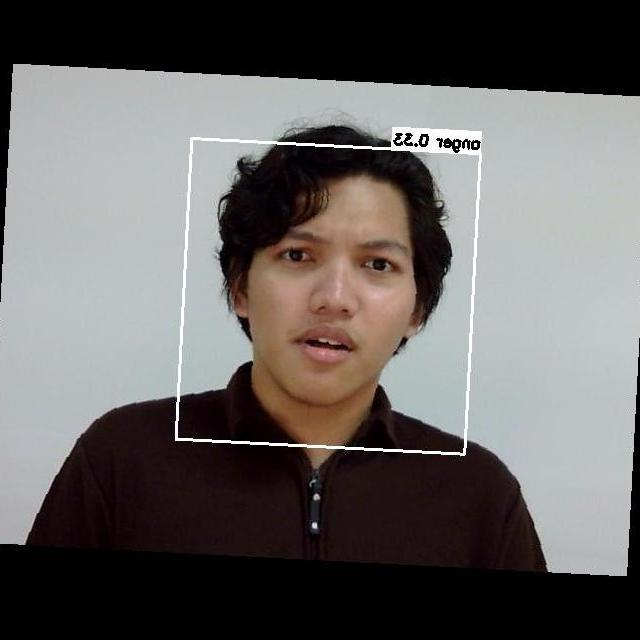Surprised: (226, 200, 417, 398)
